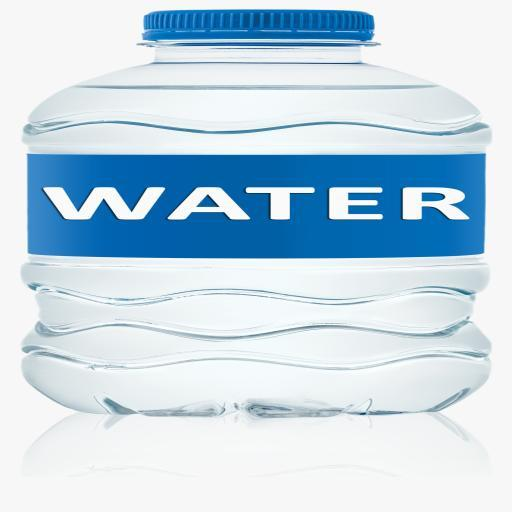bottle: (3, 3, 512, 425)
